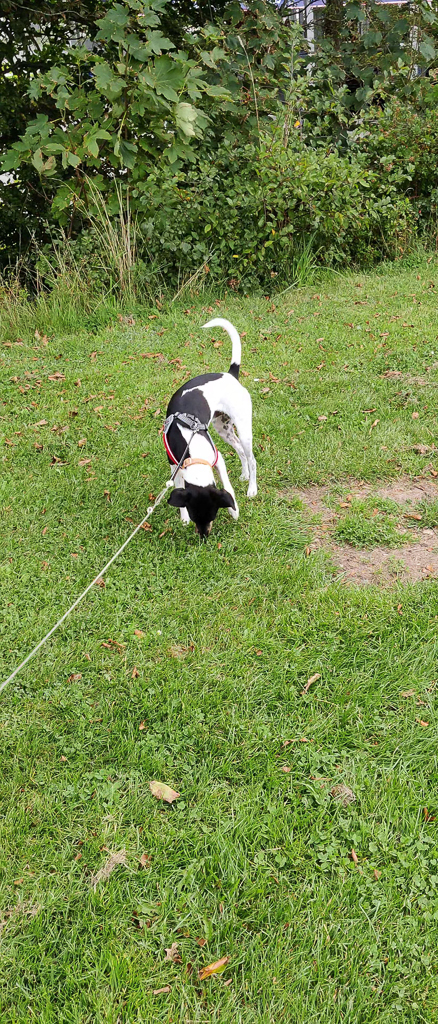Dog: (144, 303, 274, 551)
